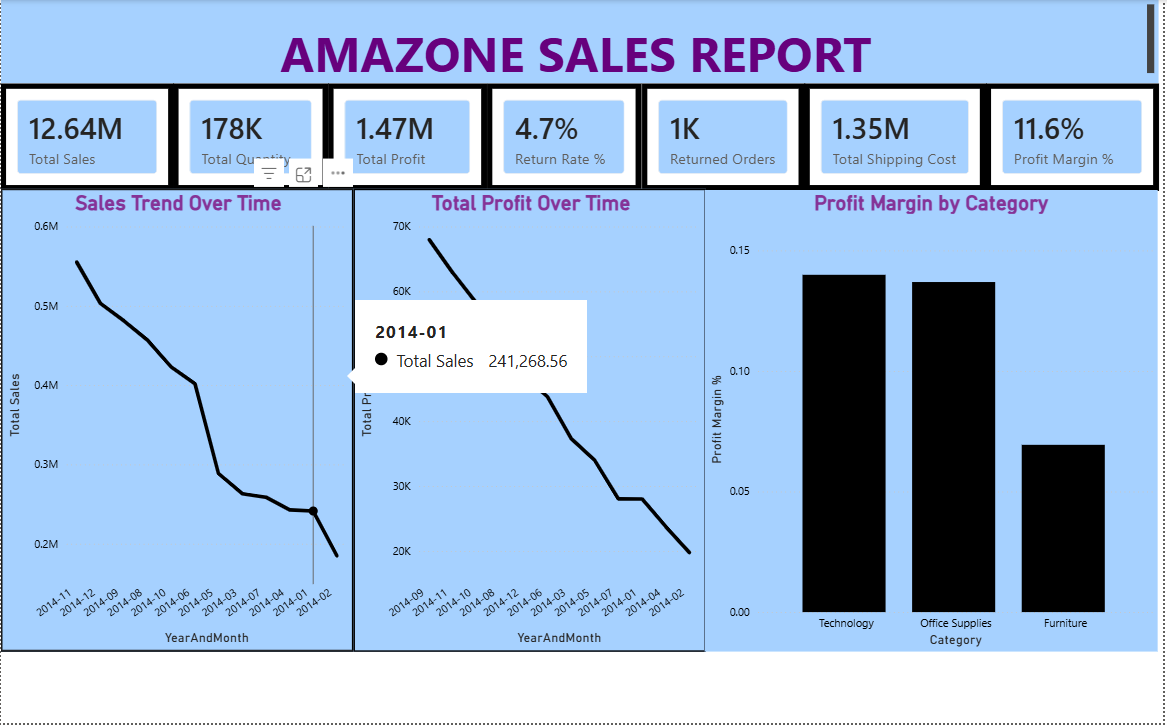

This screenshot's page, from the dashboard's own definition file:
{"tool":"powerbi","page":{"name":"Sales&Profit","canvas":[1284,800],"ordinal":1},"visuals":[{"type":"textbox","box":[0,0,1280,92],"z":0},{"type":"cardVisual","fields":{"Data":["Orders.Total Sales"]},"box":[0,92,191.2,118.1],"z":1000},{"type":"cardVisual","fields":{"Data":["Orders.Total Quantity"]},"box":[191.2,92,171.4,118.1],"z":2000},{"type":"cardVisual","fields":{"Data":["Orders.Total Profit"]},"box":[362.6,92,175.5,118.1],"z":3000},{"type":"cardVisual","fields":{"Data":["Orders.Return Rate %"]},"box":[538.1,92,170.3,118.1],"z":4000},{"type":"cardVisual","fields":{"Data":["Orders.Returned Orders"]},"box":[708.4,92,179.7,118.1],"z":5000},{"type":"cardVisual","fields":{"Data":["Orders.Total Shipping Cost"]},"box":[888.2,92,200.6,118.1],"z":6000},{"type":"cardVisual","fields":{"Data":["Orders.Profit Margin %"]},"box":[1088.8,92,191.2,118.1],"z":7000},{"type":"lineChart","title":"Sales Trend Over Time","fields":{"Y":["Orders.Total Sales"],"Category":["Date.YearAndMonth"]},"box":[0,208.5,389.4,511.8],"z":8000},{"type":"lineChart","title":"Total Profit Over Time","fields":{"Category":["Date.YearAndMonth"],"Y":["Orders.Total Profit"]},"box":[389.4,208.5,389.4,511.8],"z":9000},{"type":"columnChart","title":"Profit Margin by Category","fields":{"Category":["Orders.Category"],"Y":["Orders.Profit Margin %"]},"box":[778.9,209.6,501.1,510.7],"z":10000}]}

Visuals, with their boxes in screenshot pixels (x1, y1, x2, y2):
textbox: <region>0, 0, 1146, 82</region>
cardVisual - Orders.Total Sales: <region>0, 82, 171, 188</region>
cardVisual - Orders.Total Quantity: <region>171, 82, 325, 188</region>
cardVisual - Orders.Total Profit: <region>325, 82, 482, 188</region>
cardVisual - Orders.Return Rate %: <region>482, 82, 634, 188</region>
cardVisual - Orders.Returned Orders: <region>634, 82, 795, 188</region>
cardVisual - Orders.Total Shipping Cost: <region>795, 82, 975, 188</region>
cardVisual - Orders.Profit Margin %: <region>975, 82, 1146, 188</region>
"Sales Trend Over Time" lineChart: <region>0, 187, 349, 645</region>
"Total Profit Over Time" lineChart: <region>349, 187, 697, 645</region>
"Profit Margin by Category" columnChart: <region>697, 188, 1146, 645</region>
